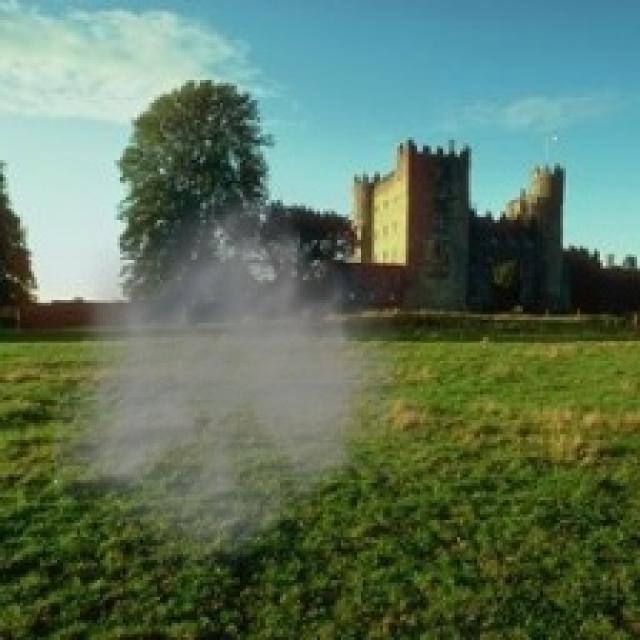smoke: (54, 177, 440, 583)
